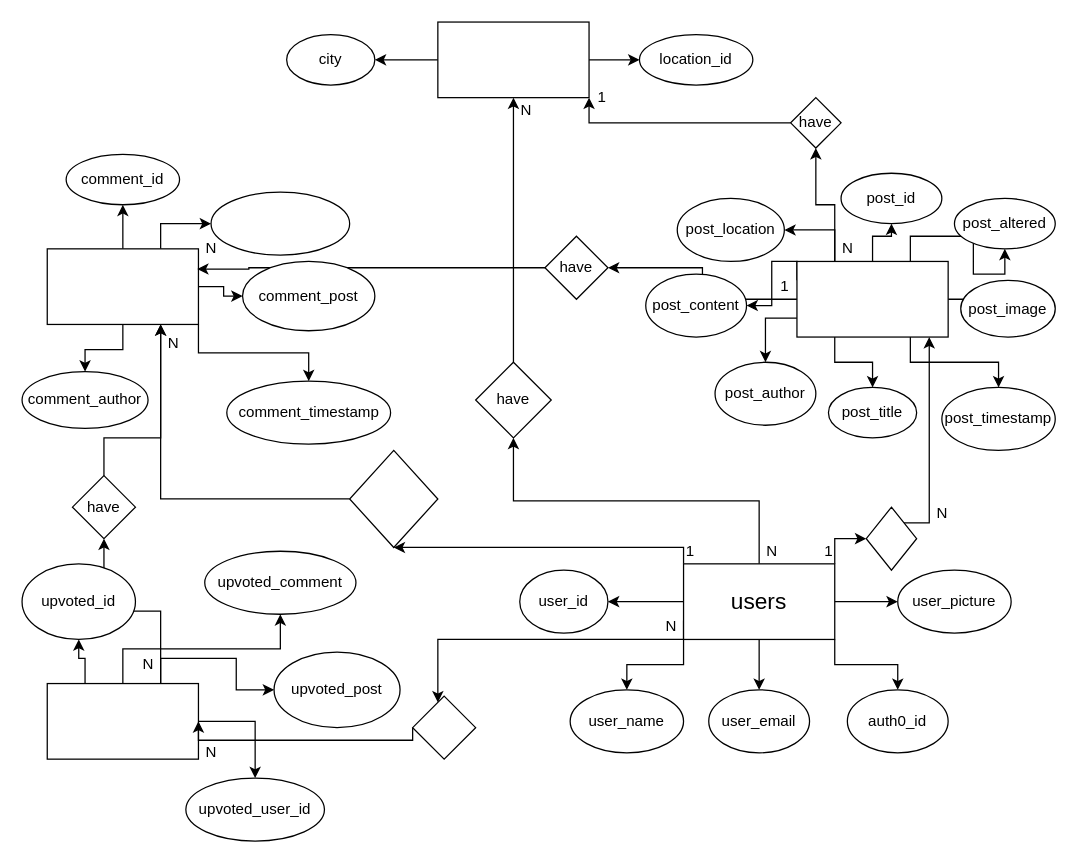
Some shapes in this 1087 by 863 pixel diagram are drawn without their labels. Each missing label, with the box of its shape:
comment: (348, 449, 438, 547)
comment_content: (210, 191, 350, 255)
comments: (46, 248, 198, 324)
locations: (437, 21, 589, 98)
post: (865, 506, 917, 570)
posts: (796, 260, 948, 337)
upvote: (411, 695, 476, 759)
upvoted: (46, 682, 198, 759)
